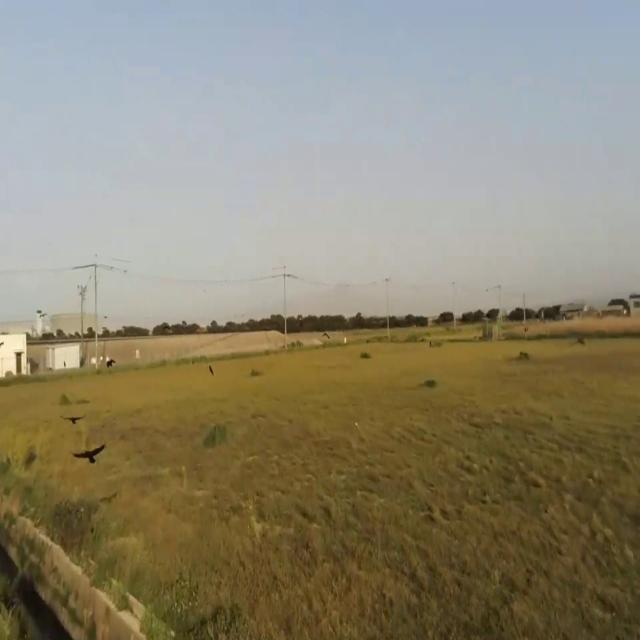bird: (75, 436, 105, 473), (68, 409, 82, 431)
